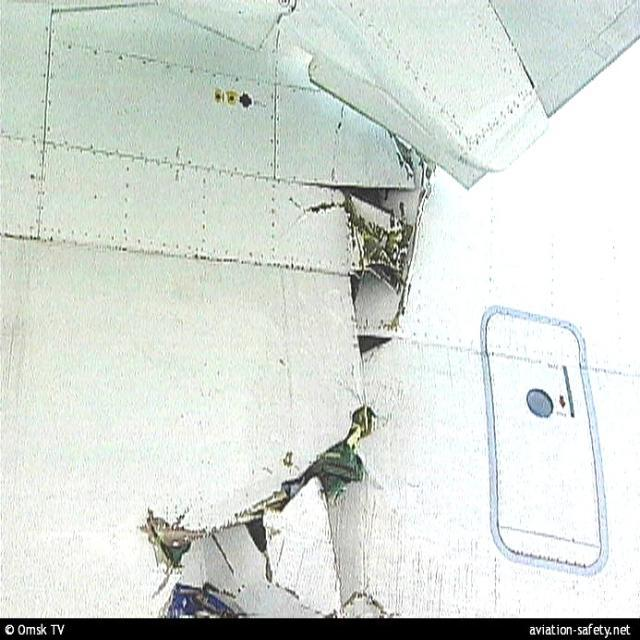crack: (140, 133, 440, 605)
